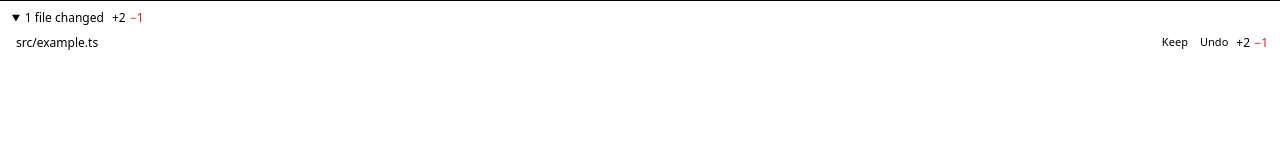
Test: EditReviewPanel › keeps failed undo visible with its full reason
Click the button with aria-label "Undo src/example.ts": (1214, 43) [1196,31,1232,55]
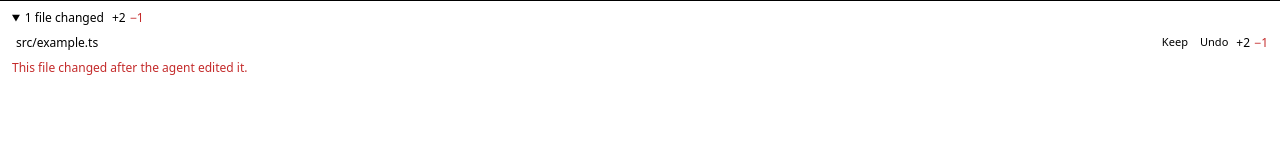
Check: the button "src/example.ts" is shown, box [12,30,1154,55]
Check: the message shows "changed after", box [12,59,248,76]
